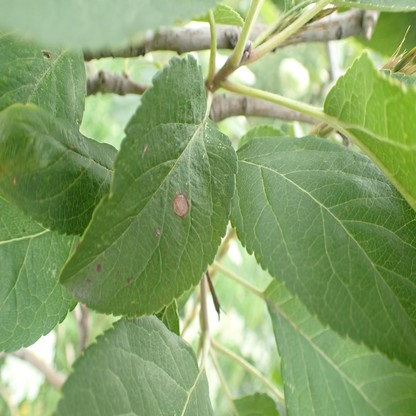frogeye_leaf_spot: (173, 193, 189, 217)
